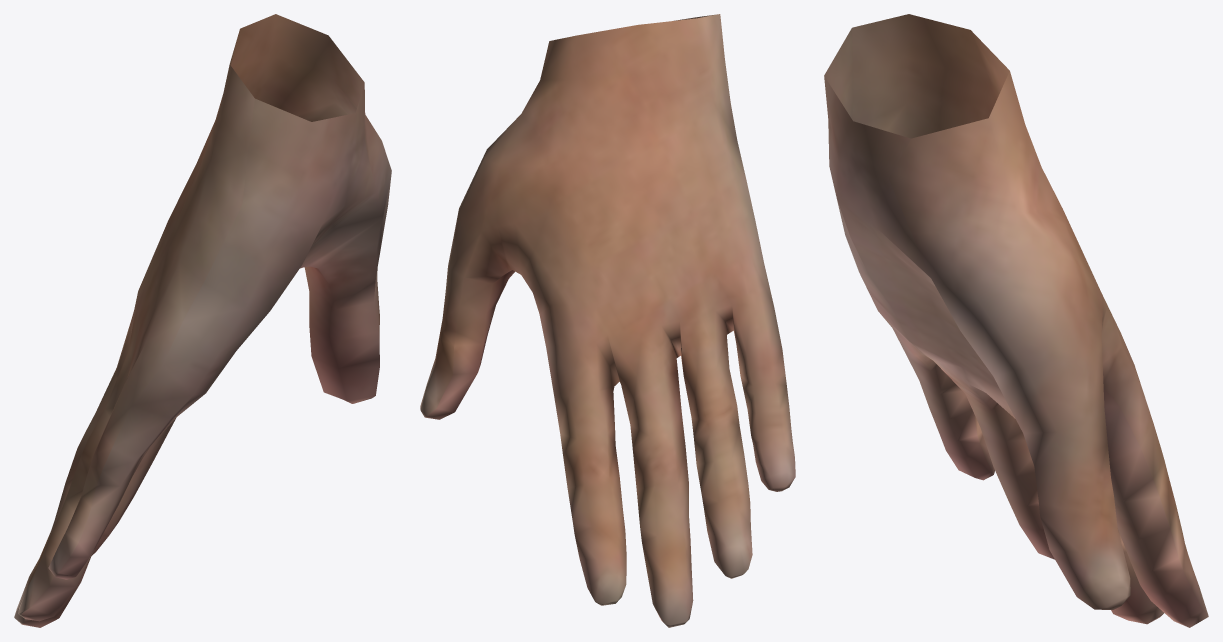
The model's file is ManoIzq.obj.
The picture shows the model from 3 angles, left to right: view 1: azimuth 30°, elevation 25°; view 2: azimuth 150°, elevation 25°; view 3: azimuth 270°, elevation 25°; orthographic projection. The views are drawn at different scales.
Parts seen in each view (by area): view 1: ManoIzq; view 2: ManoIzq; view 3: ManoIzq.
Part boxes in pixels (x1,y1,x2,y2): ManoIzq: [14, 14, 391, 627]; ManoIzq: [420, 14, 795, 627]; ManoIzq: [824, 14, 1208, 627].
Size of the model in its own units: 2.17 by 3.41 by 1.81.
1 material, 1 textured.
